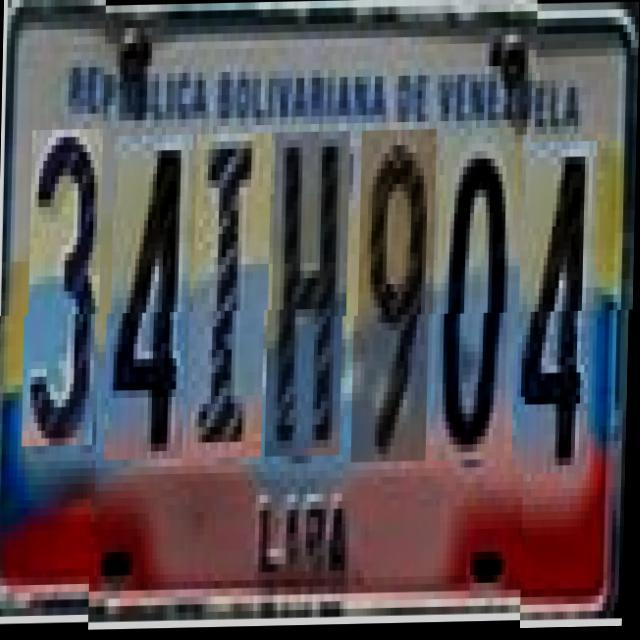3: (28, 138, 104, 454)
4: (110, 136, 194, 460), (518, 136, 598, 469)
9: (357, 131, 437, 464)
H: (271, 132, 351, 458)
I: (192, 134, 272, 459)
O: (440, 138, 516, 462)
